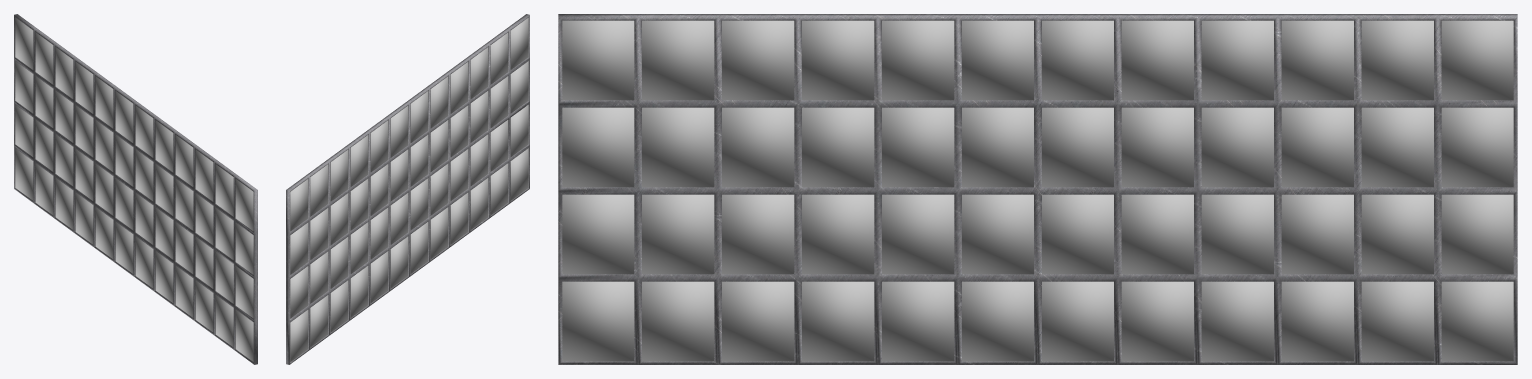
File: simple big window silver frame.fbx
3 views of the same model, side by side, from view 1: azimuth 30°, elevation 25°; view 2: azimuth 150°, elevation 25°; view 3: azimuth 270°, elevation 25° (orthographic). The views are drawn at different scales.
Visible parts, largest first — view 1: vidros, frames; view 2: vidros, frames; view 3: vidros, frames.
Boxes of the visible parts, x1,y1,x2,y2 form: vidros: (15, 17, 253, 361); frames: (14, 14, 257, 364); vidros: (290, 17, 528, 361); frames: (286, 14, 529, 364); vidros: (562, 20, 1513, 361); frames: (558, 14, 1517, 364).
Size of the model in its own units: 4 by 200 by 500.
